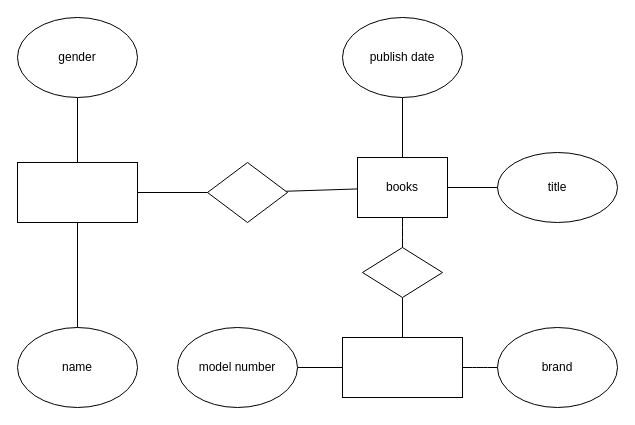
Image size: 635x425. Some labels were removed from this diagram. The shapes that lost their labels are listed below. From the top down, each one's centre as x and y in pixels, then its label:
point (77, 192): author
point (247, 192): writes
point (402, 272): printed by
point (402, 367): printer
